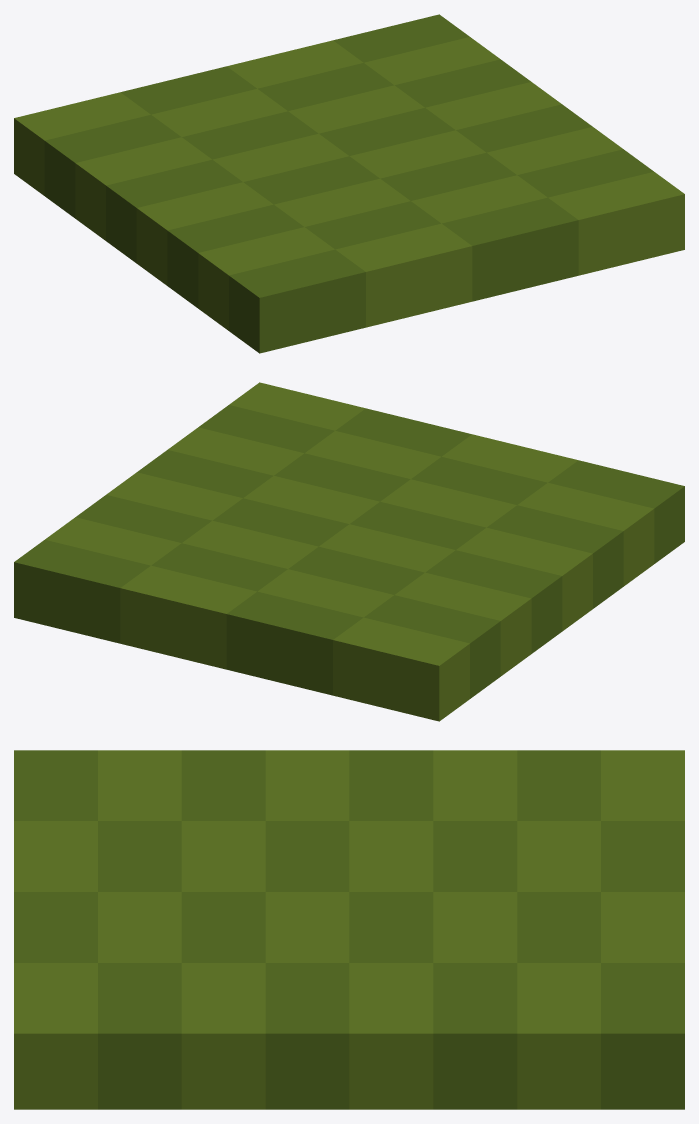
Rendered from carpet_green_model.glb.
3 renders of one model, top to bottom at view 1: azimuth 30°, elevation 25°; view 2: azimuth 150°, elevation 25°; view 3: azimuth 270°, elevation 25°, orthographic. The views are drawn at different scales.
Visible parts, largest first — view 1: Untitled; view 2: Untitled; view 3: Untitled.
Boxes of the visible parts, box(x1,y1,x2,y2) form: Untitled: box(14, 14, 684, 353); Untitled: box(14, 382, 684, 721); Untitled: box(14, 750, 684, 1109).
Size of the model in its own units: 0.8 by 0.1 by 0.8.
Materials: 1 (1 with a texture image).
